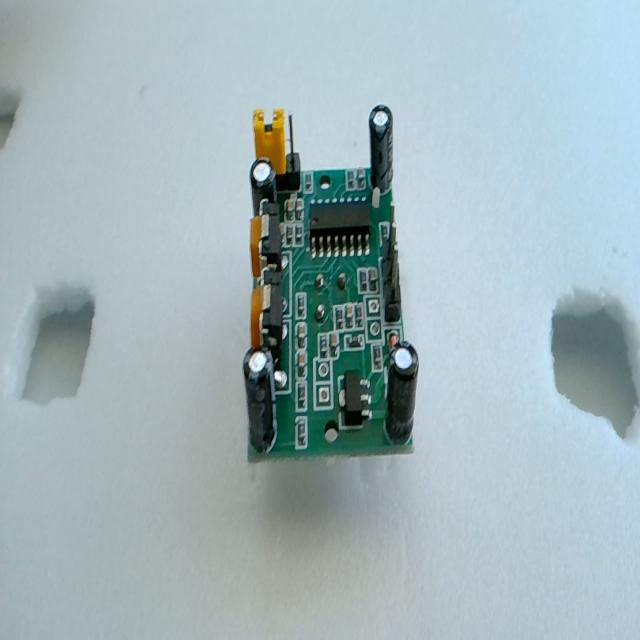Electrolytic capacitor: (384, 342, 420, 446), (242, 346, 276, 455), (368, 104, 394, 195), (250, 157, 277, 212)
IC: (308, 202, 371, 256)
pinheader: (374, 204, 414, 322)
